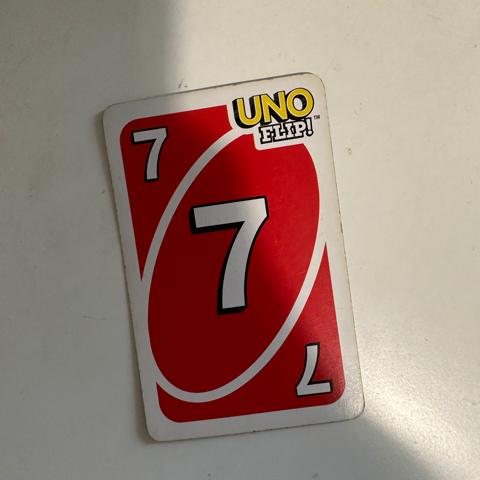9_green: (190, 195, 272, 313), (132, 127, 169, 182), (296, 342, 333, 397)
